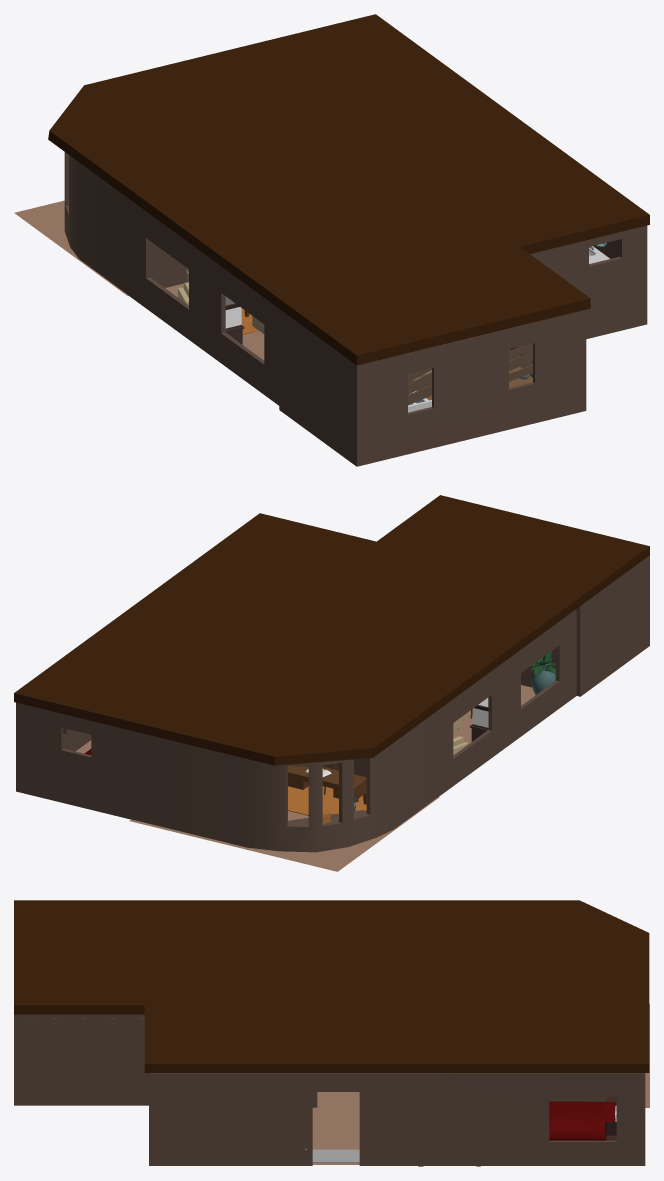
Rendered from house.fbx.
3 views of the same model, one above another, from view 1: azimuth 30°, elevation 25°; view 2: azimuth 150°, elevation 25°; view 3: azimuth 270°, elevation 25° (orthographic). The views are drawn at different scales.
Visible parts, largest first — view 1: roof, kitchenWall1, livingRoomWall4, kitchenWall2, bathroomWall2, studyWall1, studyFloor, livingRoomWall2, windowBoards3, windowBoards, fishTank; view 2: roof, studyWall1, bedroomWall, livingRoomWall4, kitchenWall2, studyFloor, studyTable, studyCarpet, livingRoomPlant, fishTank, livingRoomFloor; view 3: roof, bedroomWall1, kitchenWall, bathroomWall1, hallwayWall3, bed, pPlane1, frontDoorCarpet, livingRoomFloor, bathroomWall4, bathroomWall2, bedroomWall (+3 smaller).
Part boxes in pixels (left/top/right/bottom): roof: left=48, top=14, right=649, bottom=365; kitchenWall1: left=361, top=310, right=581, bottom=465; livingRoomWall4: left=130, top=200, right=279, bottom=405; kitchenWall2: left=279, top=309, right=360, bottom=466; bathroomWall2: left=530, top=225, right=647, bottom=338; studyWall1: left=64, top=152, right=127, bottom=294; studyFloor: left=14, top=200, right=128, bottom=295; livingRoomWall2: left=127, top=198, right=186, bottom=296; windowBoards3: left=509, top=343, right=532, bottom=381; windowBoards: left=408, top=368, right=431, bottom=405; fishTank: left=225, top=296, right=244, bottom=344; roof: left=14, top=495, right=649, bottom=765; studyWall1: left=136, top=711, right=436, bottom=852; bedroomWall: left=16, top=702, right=136, bottom=820; livingRoomWall4: left=439, top=611, right=573, bottom=796; kitchenWall2: left=576, top=555, right=649, bottom=696; studyFloor: left=129, top=766, right=439, bottom=871; studyTable: left=288, top=766, right=366, bottom=810; studyCarpet: left=288, top=786, right=366, bottom=815; livingRoomPlant: left=531, top=651, right=555, bottom=694; fishTank: left=470, top=698, right=488, bottom=741; livingRoomFloor: left=453, top=685, right=535, bottom=743; roof: left=14, top=900, right=649, bottom=1072; bedroomWall1: left=406, top=1073, right=640, bottom=1165; kitchenWall: left=14, top=1014, right=148, bottom=1105; bathroomWall1: left=153, top=1073, right=270, bottom=1165; hallwayWall3: left=279, top=1073, right=397, bottom=1165; bed: left=549, top=1101, right=616, bottom=1140; pPlane1: left=312, top=1106, right=359, bottom=1164; frontDoorCarpet: left=312, top=1149, right=359, bottom=1162; livingRoomFloor: left=317, top=1092, right=359, bottom=1105; bathroomWall4: left=271, top=1073, right=275, bottom=1165; bathroomWall2: left=149, top=1073, right=153, bottom=1165; bedroomWall: left=641, top=1073, right=645, bottom=1165.
Size of the model in its own units: 38.22 by 11.67 by 62.85.
